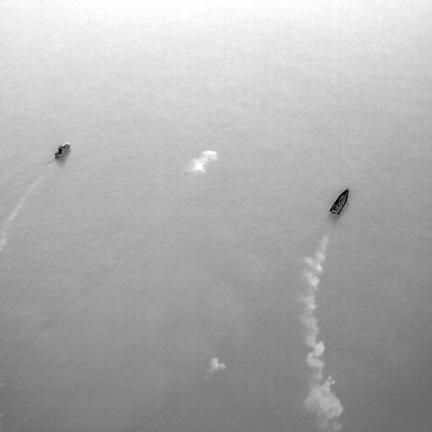flukeprints: (186, 151, 217, 172), (206, 358, 225, 379)
